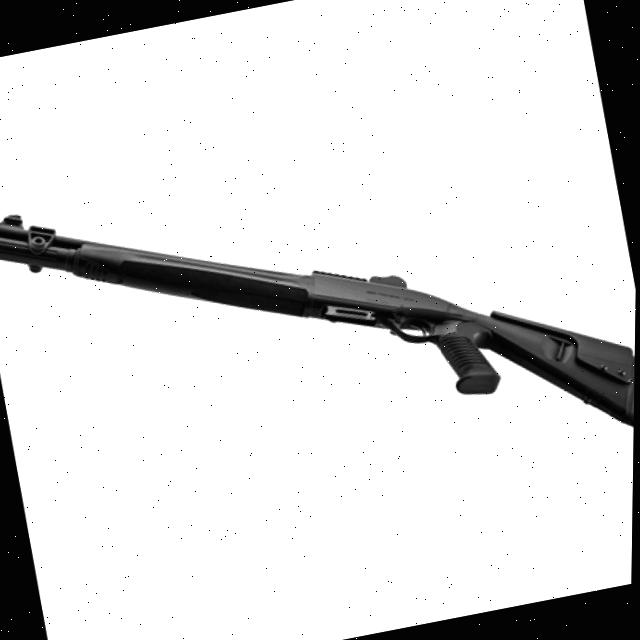firearm: (0, 98, 639, 545)
